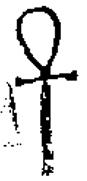Ankh: (8, 4, 82, 179)
